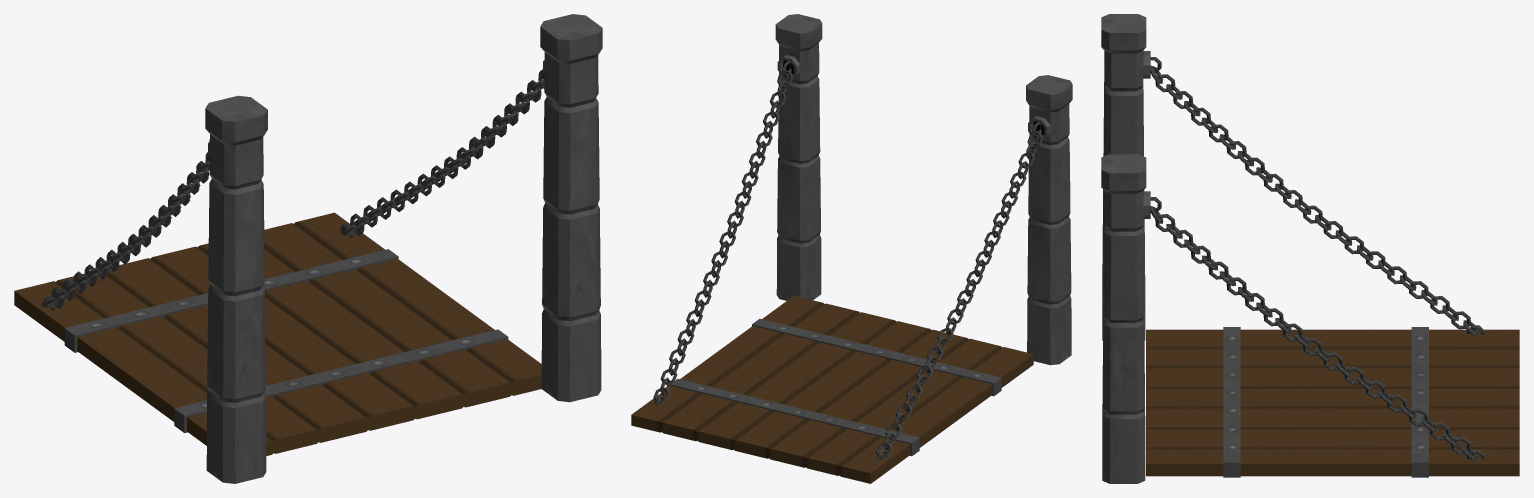
The model's file is Plataforma Puente Inverso.fbx.
The picture shows the model from 3 angles, left to right: view 1: azimuth 30°, elevation 25°; view 2: azimuth 150°, elevation 25°; view 3: azimuth 270°, elevation 25°; orthographic projection. The views are drawn at different scales.
Visible parts, largest first — view 1: Puente.004, Torre.004, Torre2.004, Torus.292, Metal Puente 2.004, Metal Puente.004, Torus.327; view 2: Puente.004, Torre2.004, Torre.004, Torus.292, Torus.327, Metal Puente.004, Metal Puente 2.004; view 3: Puente.004, Torre.004, Torre2.004, Torus.327, Torus.292, Metal Puente.004, Metal Puente 2.004.
Boxes of the visible parts, <box> form: Puente.004: <box>14,212,541,455</box>; Torre.004: <box>540,14,602,402</box>; Torre2.004: <box>205,95,267,483</box>; Torus.292: <box>340,69,544,238</box>; Metal Puente 2.004: <box>64,249,398,352</box>; Metal Puente.004: <box>174,329,508,433</box>; Torus.327: <box>41,152,209,310</box>; Puente.004: <box>631,295,1033,483</box>; Torre2.004: <box>1026,75,1072,365</box>; Torre.004: <box>775,14,822,300</box>; Torus.292: <box>653,61,792,406</box>; Torus.327: <box>876,122,1042,460</box>; Metal Puente.004: <box>752,318,1001,396</box>; Metal Puente 2.004: <box>670,378,919,456</box>; Puente.004: <box>1146,329,1519,476</box>; Torre.004: <box>1101,154,1146,483</box>; Torre2.004: <box>1101,14,1146,340</box>; Torus.327: <box>1150,57,1485,335</box>; Torus.292: <box>1150,197,1485,460</box>; Metal Puente.004: <box>1223,327,1240,477</box>; Metal Puente 2.004: <box>1411,327,1428,477</box>.
Size of the model in its own units: 1006 by 930 by 1117.
